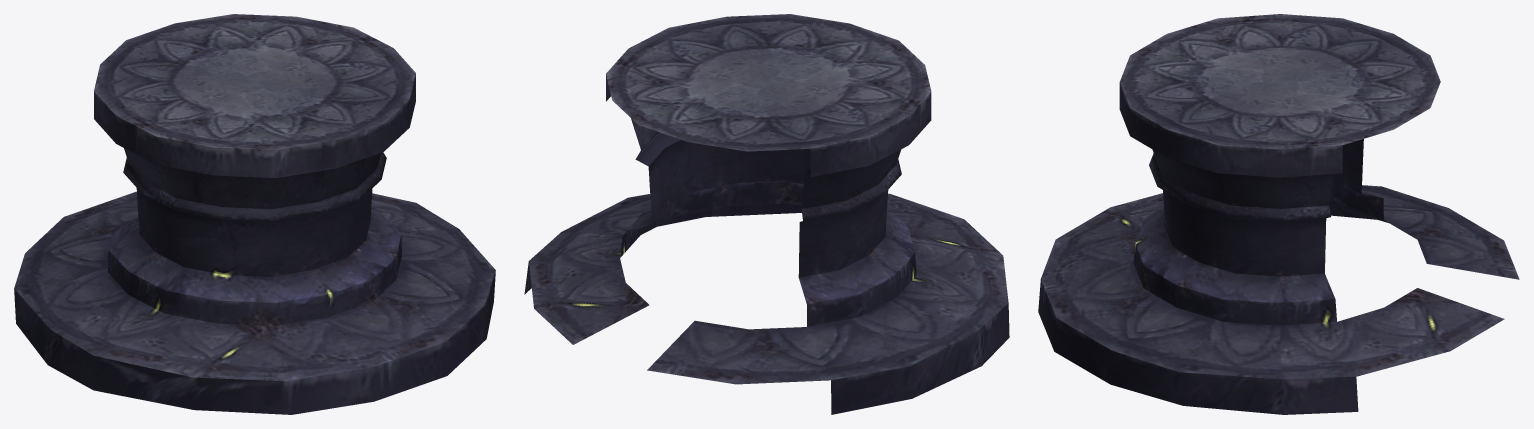
Rendered from DZMG_GM_ShiPan.FBX.
The picture shows the model from 3 angles, left to right: view 1: azimuth 30°, elevation 25°; view 2: azimuth 150°, elevation 25°; view 3: azimuth 270°, elevation 25°; orthographic projection.
Parts seen in each view (by area): view 1: DZMG_GM_ShiPan; view 2: DZMG_GM_ShiPan; view 3: DZMG_GM_ShiPan.
Boxes of the visible parts, left/top/right/bottom form: DZMG_GM_ShiPan: left=14, top=14, right=495, bottom=414; DZMG_GM_ShiPan: left=524, top=14, right=1009, bottom=414; DZMG_GM_ShiPan: left=1038, top=14, right=1519, bottom=414.
Bounding box in the file's own units: 560 × 296 × 558.
